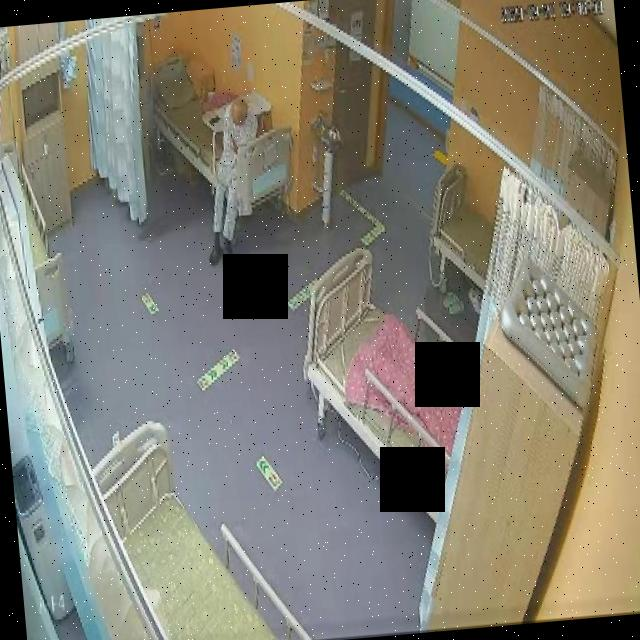bed: (87, 406, 311, 640), (298, 242, 476, 526), (146, 48, 297, 222), (424, 162, 499, 296)
patient: (193, 94, 272, 268)
sit: (192, 94, 272, 268)
